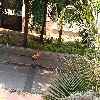fire: (34, 52, 41, 59)
